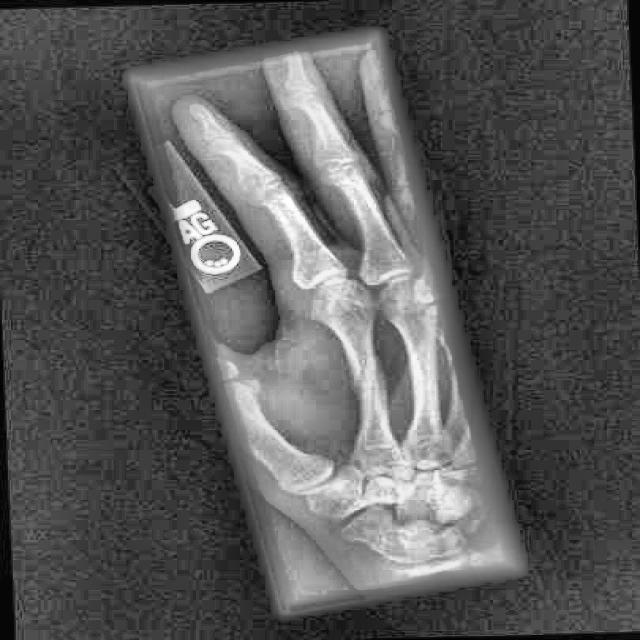fingers positive: (325, 340, 387, 405)
